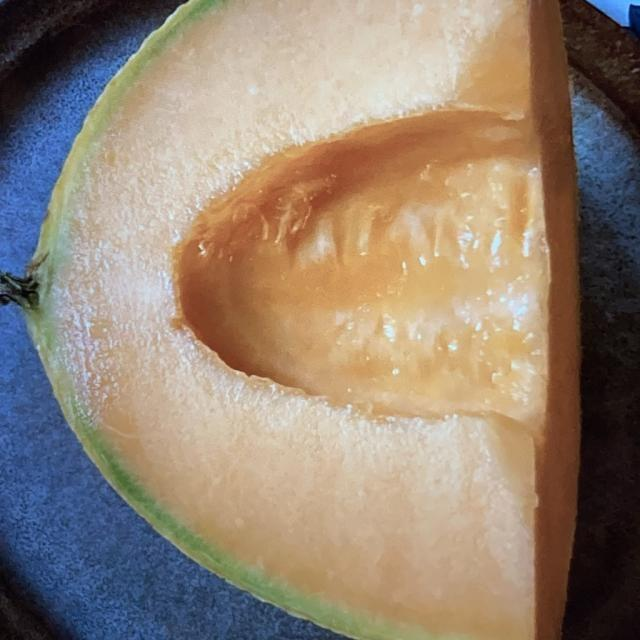melon: (38, 9, 564, 632)
